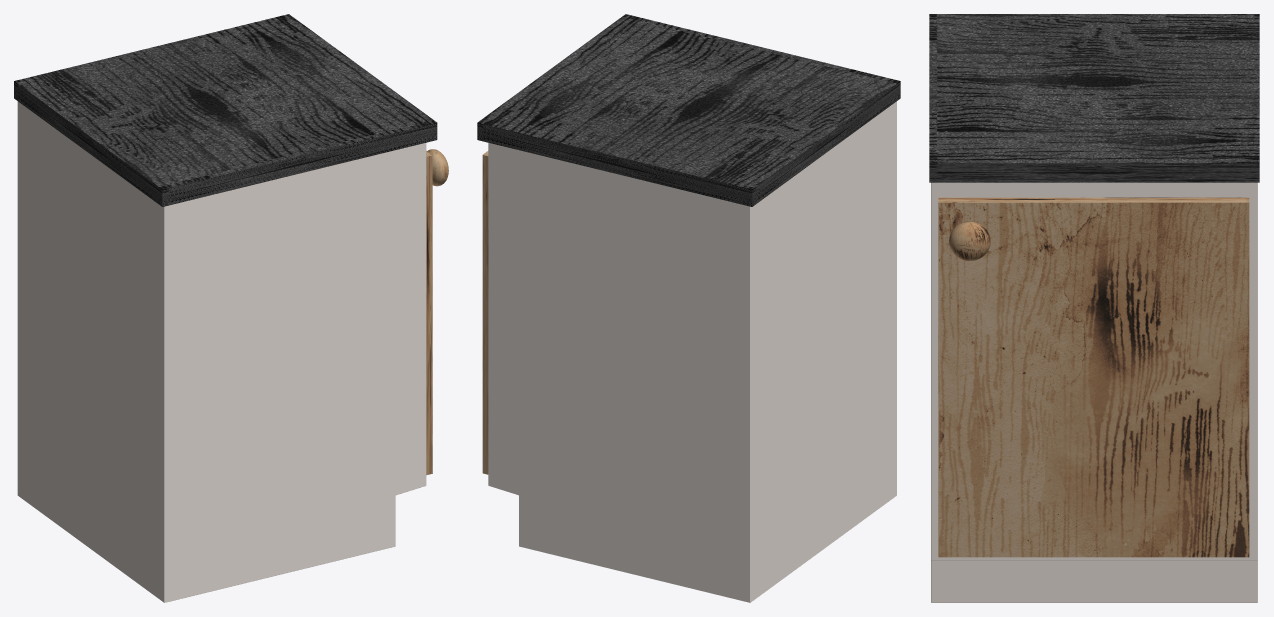
The model's file is ovenCounter.fbx.
3 views of the same model, side by side, from view 1: azimuth 30°, elevation 25°; view 2: azimuth 150°, elevation 25°; view 3: azimuth 270°, elevation 25° (orthographic). The views are drawn at different scales.
Visible parts, largest first — view 1: cabinet1.001, counterTop, door1.001; view 2: cabinet1.001, counterTop, door1.001; view 3: door1.001, counterTop, cabinet1.001, knob1.001.
Boxes of the visible parts, x1=… form: cabinet1.001: x1=17, y1=101, x2=426, y2=602; counterTop: x1=14, y1=14, x2=437, y2=206; door1.001: x1=426, y1=151, x2=432, y2=475; cabinet1.001: x1=488, y1=101, x2=896, y2=602; counterTop: x1=477, y1=14, x2=900, y2=206; door1.001: x1=482, y1=151, x2=488, y2=474; door1.001: x1=938, y1=197, x2=1249, y2=557; counterTop: x1=929, y1=14, x2=1259, y2=182; cabinet1.001: x1=931, y1=182, x2=1257, y2=602; knob1.001: x1=949, y1=221, x2=990, y2=260.
Bounding box in the file's own units: 0.7221 × 0.9509 × 0.6165.
